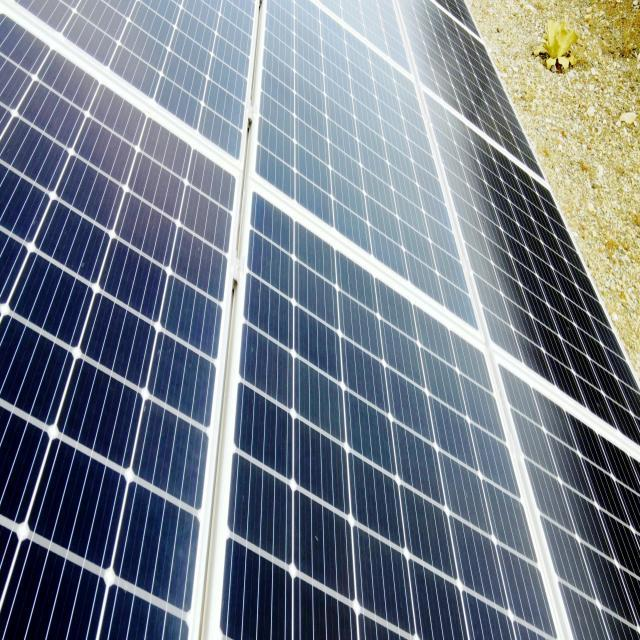no faulty: (208, 176, 560, 640), (0, 9, 239, 640), (245, 1, 486, 323), (442, 86, 636, 432)
